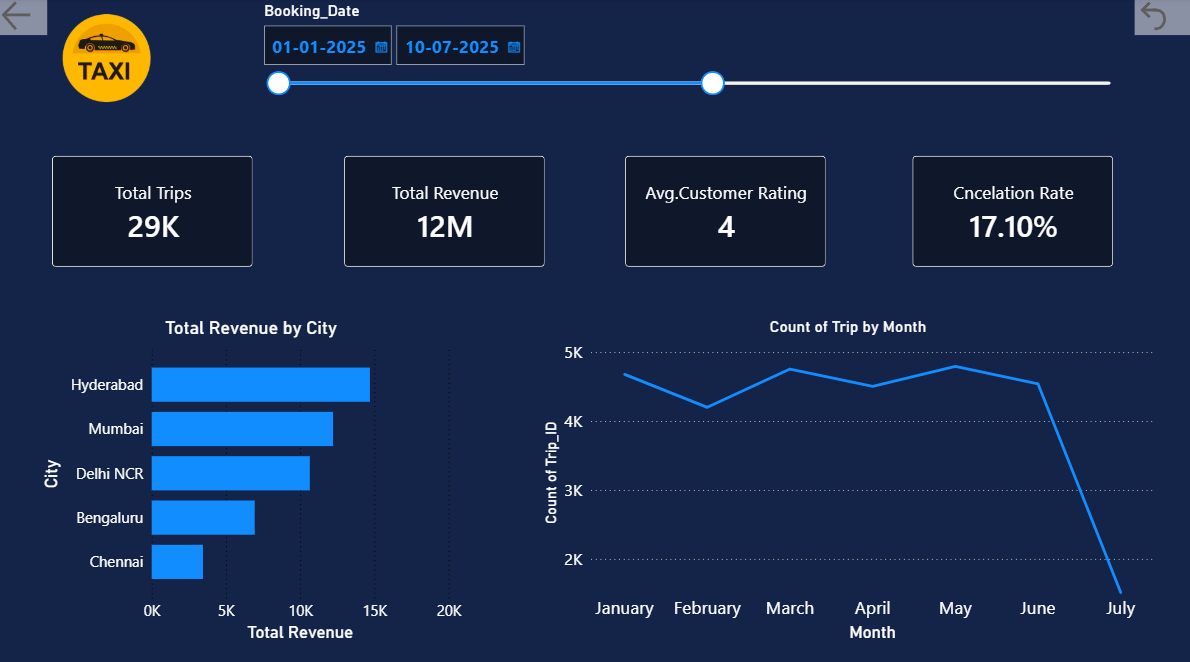

The page's visual inventory and layout, read from the dashboard file:
{"tool":"powerbi","page":{"name":"Summary","canvas":[1280,720],"ordinal":6},"visuals":[{"type":"image","box":[52.7,0,127.5,130.9],"z":0},{"type":"cardVisual","fields":{"Data":["Trips.Total Trips"]},"box":[40.8,153.1,250,153.1],"z":1000},{"type":"cardVisual","fields":{"Data":["Trips.Total Revenue"]},"box":[353.7,153.1,250,153.1],"z":2000},{"type":"cardVisual","fields":{"Data":["Trips.Avg.Customer Rating"]},"box":[654.7,153.1,250,153.1],"z":3000},{"type":"cardVisual","fields":{"Data":["Trips.Cncelation Rate"]},"box":[962.5,153.1,250,153.1],"z":4000},{"type":"clusteredBarChart","fields":{"Category":["Customer.City"],"Y":["Trips.Total Revenue"]},"box":[40.8,343.5,460.9,352],"z":5000},{"type":"lineChart","title":"Count of Trip by Month","fields":{"Category":["Trips.Booking_Date.Variation.Date Hierarchy.Month","Trips.Booking_Date.Variation.Date Hierarchy.Day"],"Y":["CountNonNull(Trips.Trip_ID)"]},"box":[578.2,343.5,664.9,352],"z":6000},{"type":"slicer","fields":{"Values":["Trips.Booking_Date"]},"box":[272.1,0,940.4,153.1],"z":7000},{"type":"actionButton","box":[0,0,52.7,40.8],"z":8000},{"type":"actionButton","box":[1217.6,0,62.9,40.8],"z":9000}]}

Visuals, with their boxes in screenshot pixels (x1, y1, x2, y2), scaled from the page's 1280x720 canvas onto the 1190x662 screenshot:
image: Rect(49, 0, 168, 120)
cardVisual - Trips.Total Trips: Rect(38, 141, 270, 282)
cardVisual - Trips.Total Revenue: Rect(329, 141, 561, 282)
cardVisual - Trips.Avg.Customer Rating: Rect(609, 141, 841, 282)
cardVisual - Trips.Cncelation Rate: Rect(895, 141, 1127, 282)
clusteredBarChart - Customer.City x Trips.Total Revenue: Rect(38, 316, 466, 639)
"Count of Trip by Month" lineChart: Rect(538, 316, 1156, 639)
slicer - Trips.Booking_Date: Rect(253, 0, 1127, 141)
actionButton: Rect(0, 0, 49, 38)
actionButton: Rect(1132, 0, 1189, 38)
